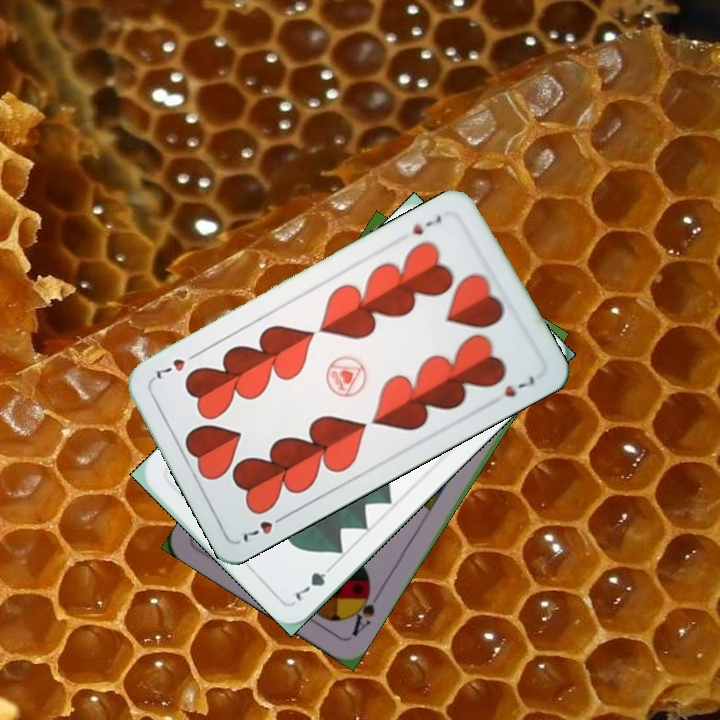G7: (291, 559, 338, 606)
H7: (239, 510, 291, 545), (408, 211, 448, 238)
SA: (345, 581, 384, 640)
